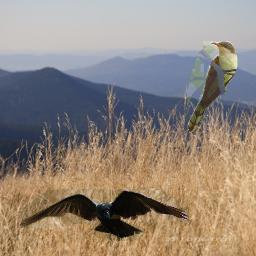Crow: (20, 189, 189, 247)
Cuckoo: (187, 41, 238, 133)
